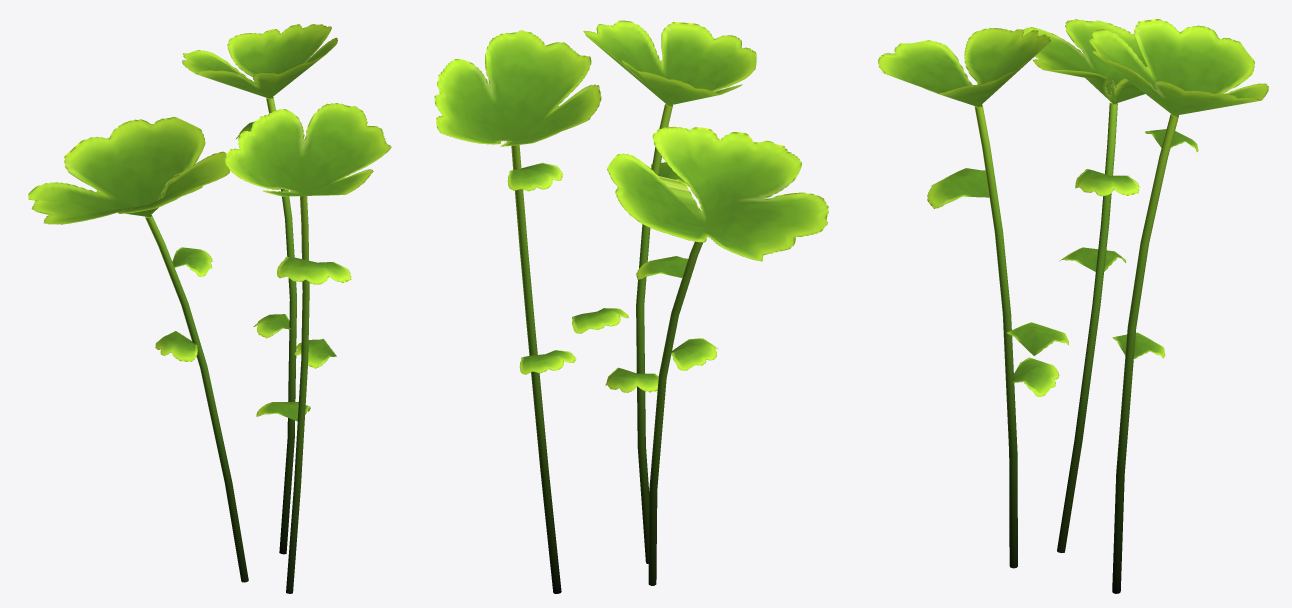
The model's file is Clover_1.glb.
3 renders of one model, left to right at view 1: azimuth 30°, elevation 25°; view 2: azimuth 150°, elevation 25°; view 3: azimuth 270°, elevation 25°, orthographic. The views are drawn at different scales.
Parts seen in each view (by area): view 1: Clover_1; view 2: Clover_1; view 3: Clover_1.
Boxes of the visible parts, box(x1,y1,x2,y2) form: Clover_1: box(28, 24, 391, 593); Clover_1: box(434, 20, 828, 593); Clover_1: box(878, 19, 1268, 593).
Size of the model in its own units: 0.7963 by 1.14 by 0.7639.
Materials: 1 (1 with a texture image).
